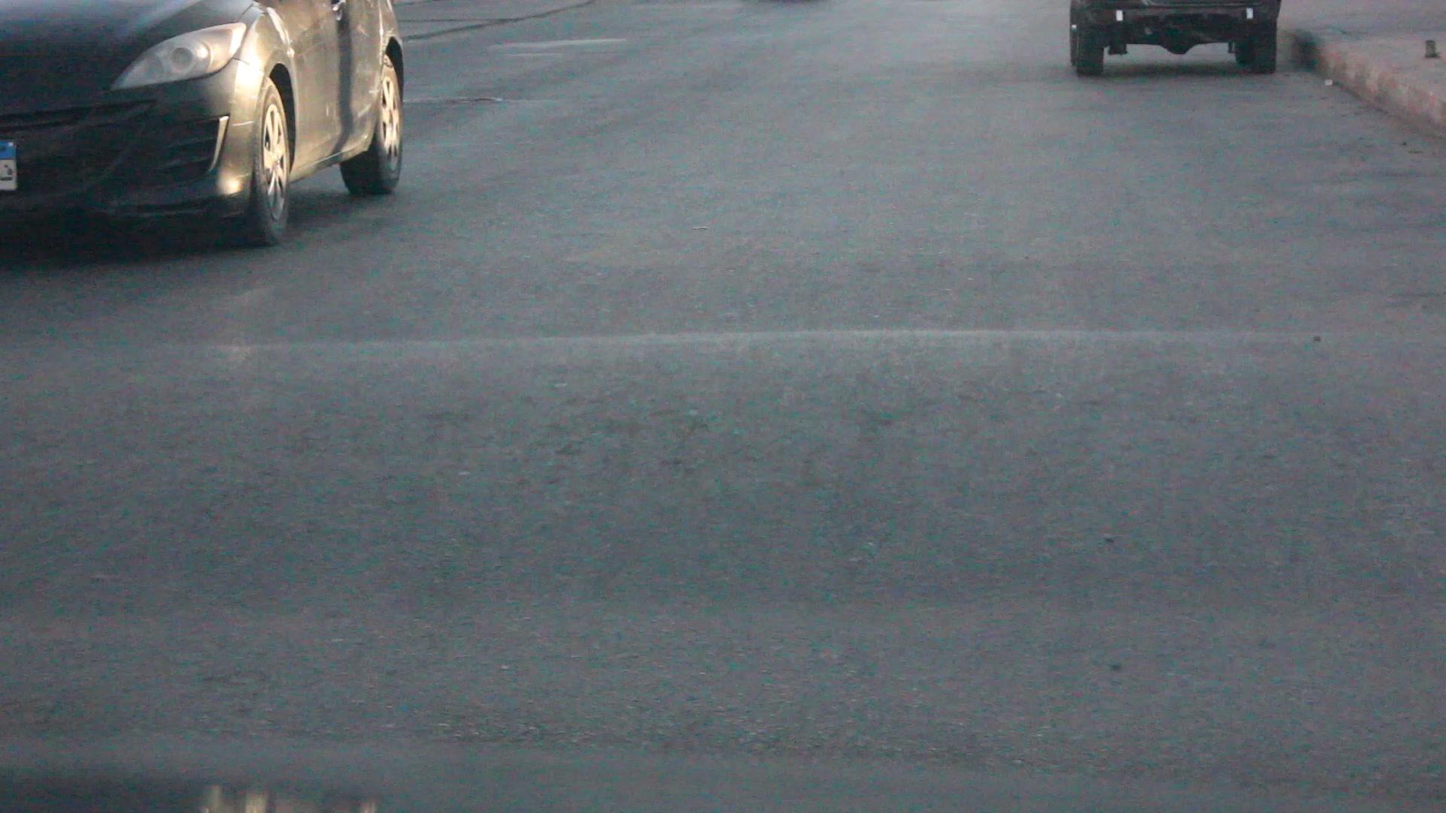Bump: (4, 352, 1446, 608)
